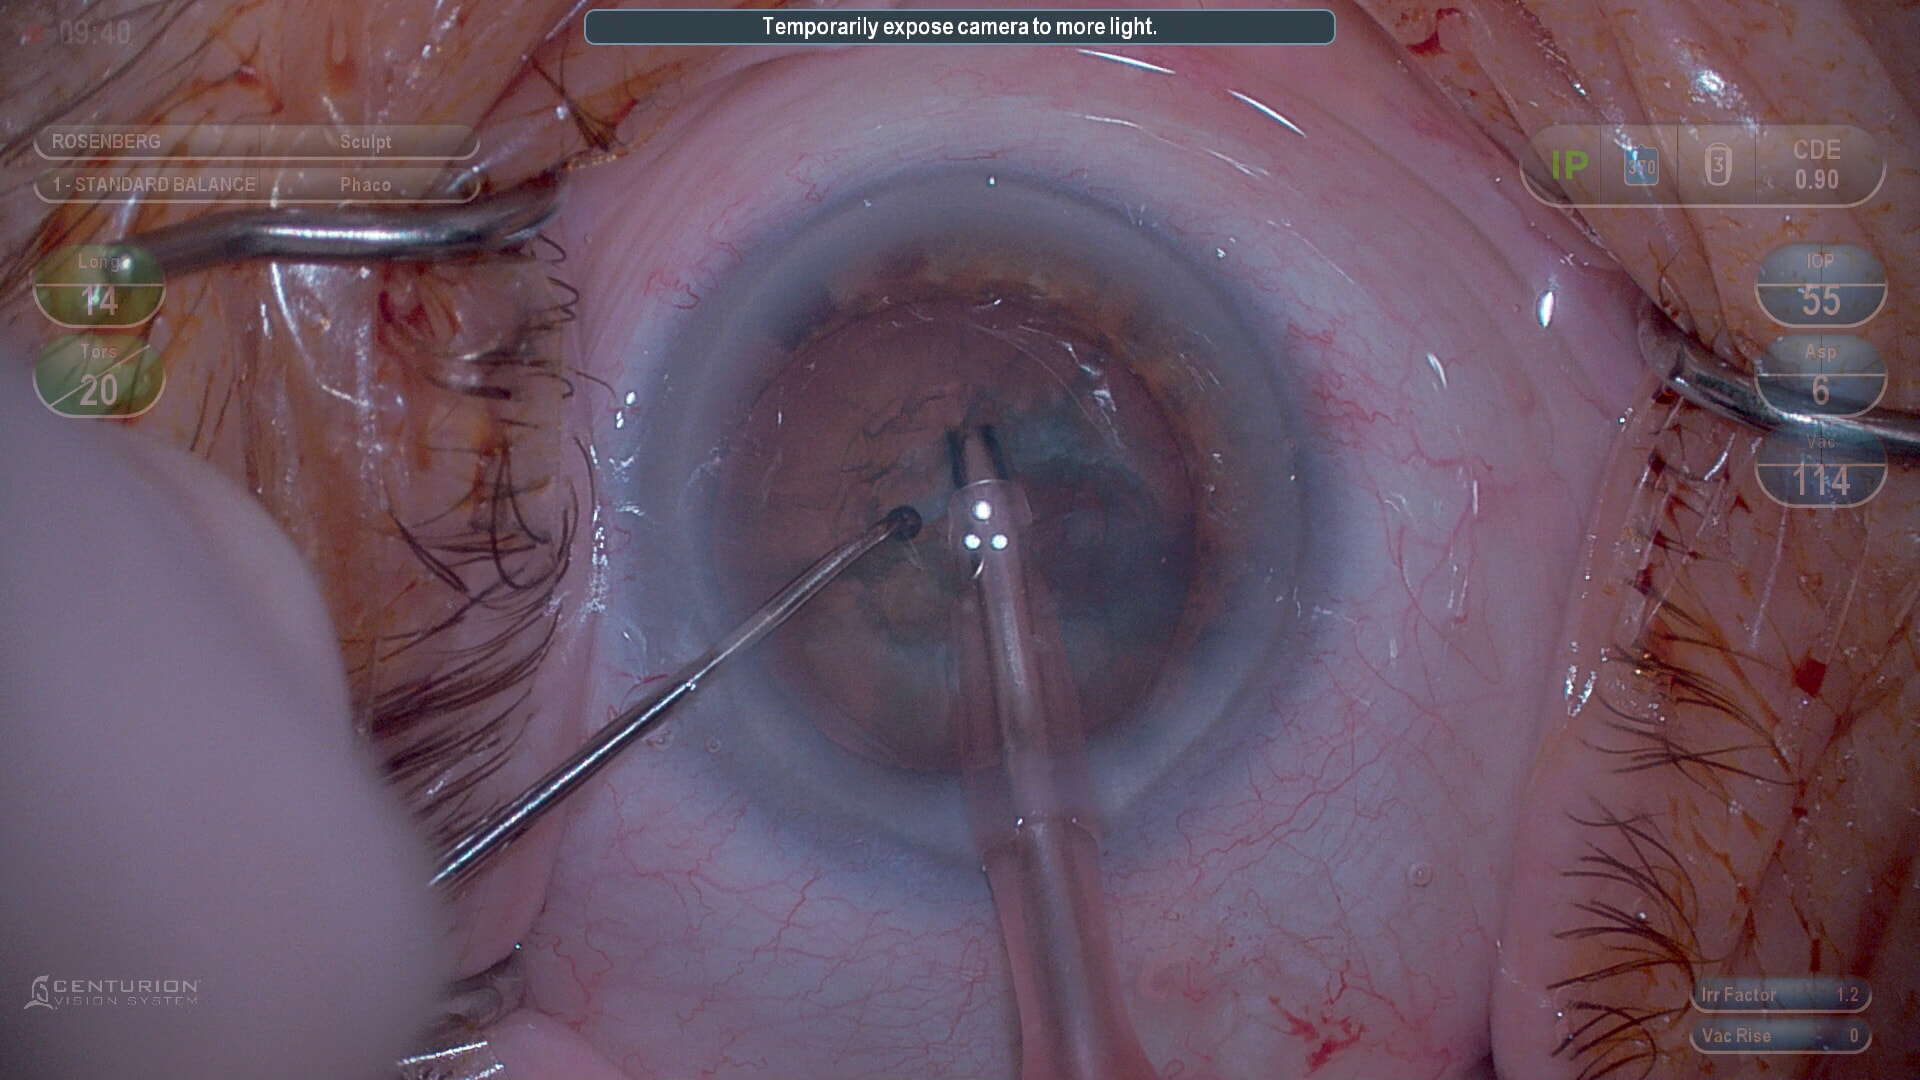iris: (642, 177, 1306, 844)
pupil: (720, 302, 1199, 770)
